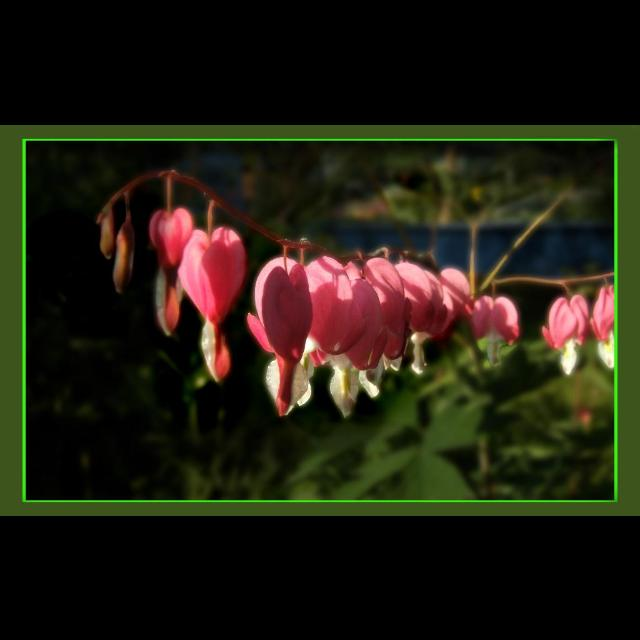Flower: (244, 254, 520, 416), (177, 226, 250, 380), (150, 206, 190, 334), (540, 294, 586, 372), (592, 283, 616, 361)
